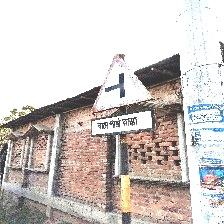Side-road-left: (91, 55, 155, 138)
